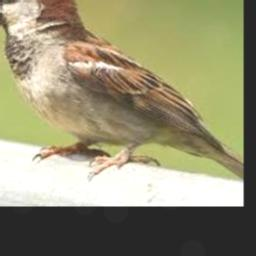Sparrow: (0, 0, 243, 180)
